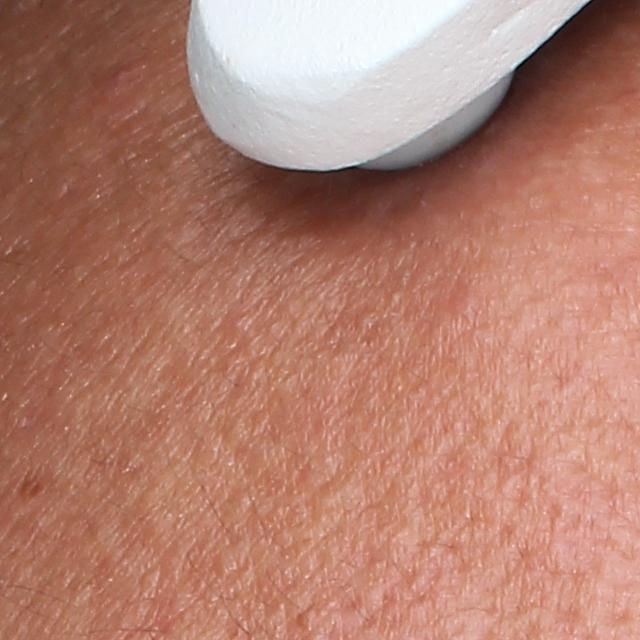comedo: (227, 312, 250, 337)
